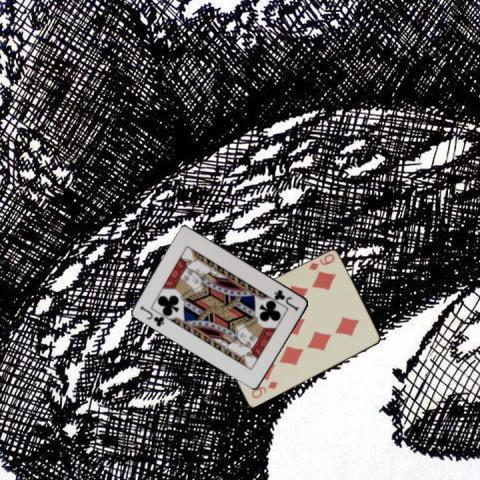9d: (248, 379, 279, 400), (306, 251, 336, 272)
Jc: (272, 287, 301, 312), (137, 303, 166, 328)
